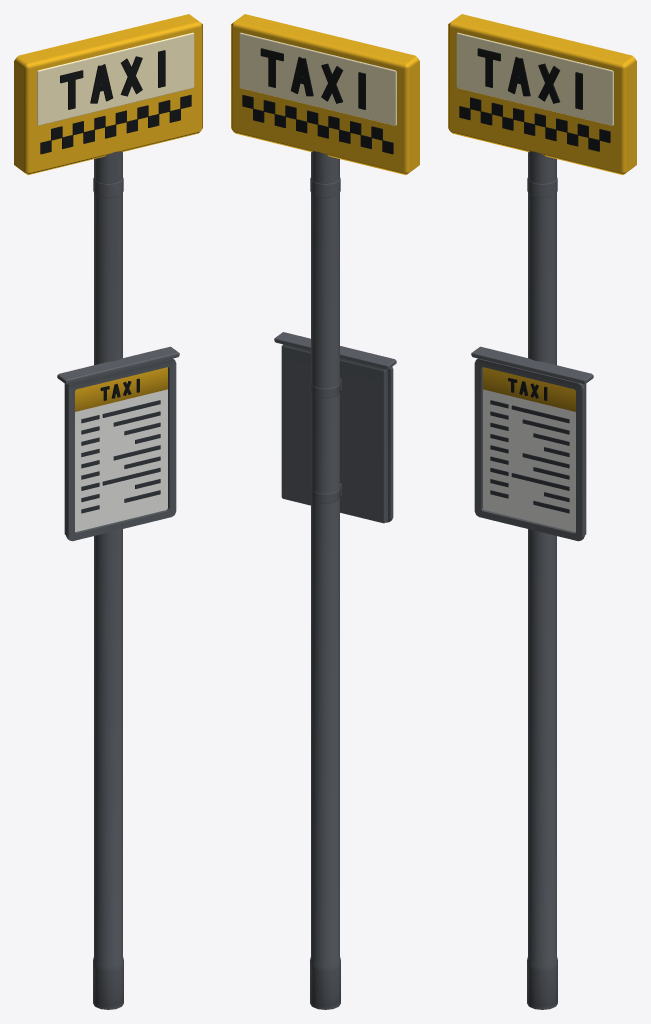
Rendered from taxiSign.glb.
The picture shows the model from 3 angles, left to right: view 1: azimuth 30°, elevation 25°; view 2: azimuth 150°, elevation 25°; view 3: azimuth 330°, elevation 25°; orthographic projection.
Parts seen in each view (by area): view 1: taxiSign; view 2: taxiSign; view 3: taxiSign.
Boxes of the visible parts, <box> form: taxiSign: <box>14,14,202,1009</box>; taxiSign: <box>231,14,419,1009</box>; taxiSign: <box>448,14,636,1009</box>.
Bounding box in the file's own units: 0.5 × 2.57 × 0.1122.
